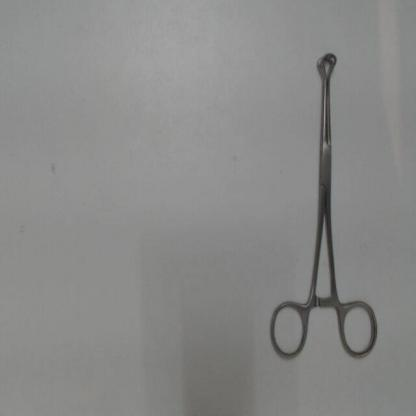Babcock Tissue Forceps: (267, 47, 382, 366)
